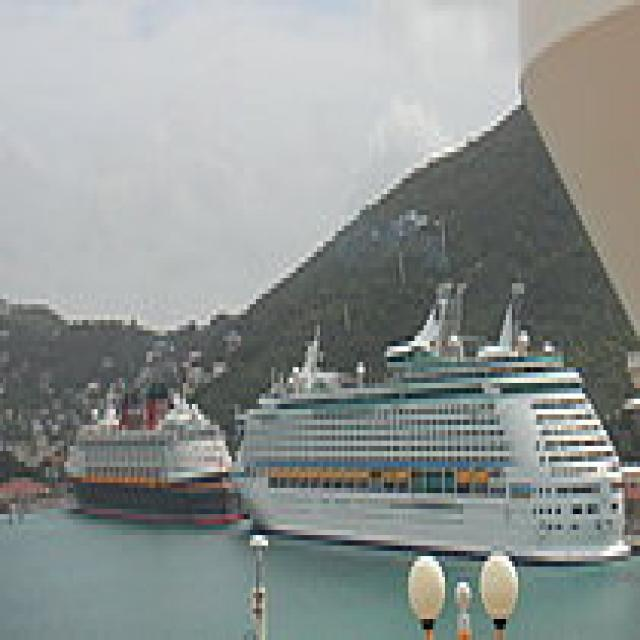Ship: (229, 268, 640, 583), (59, 368, 254, 536)
